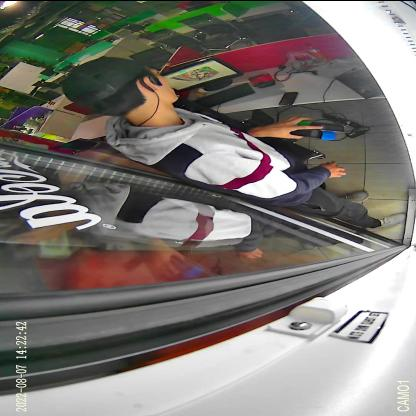blue: (290, 128, 336, 140)
green: (296, 119, 348, 132)
